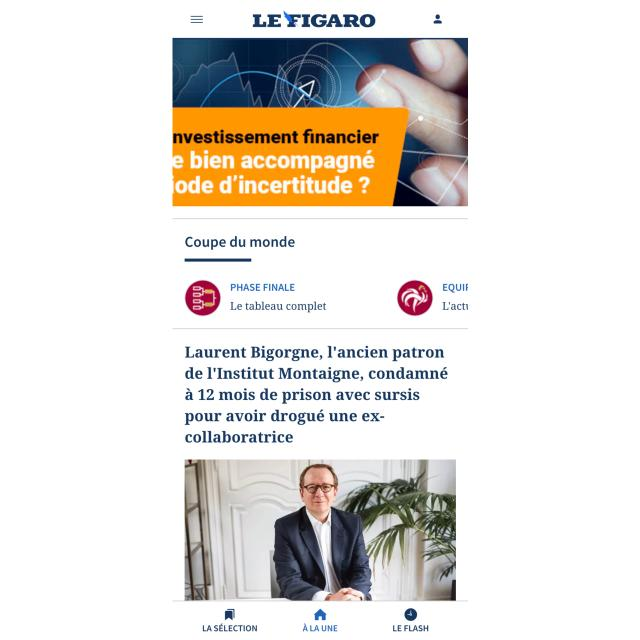logo: (250, 10, 375, 30)
navigation: (174, 600, 466, 640), (191, 12, 205, 28)
